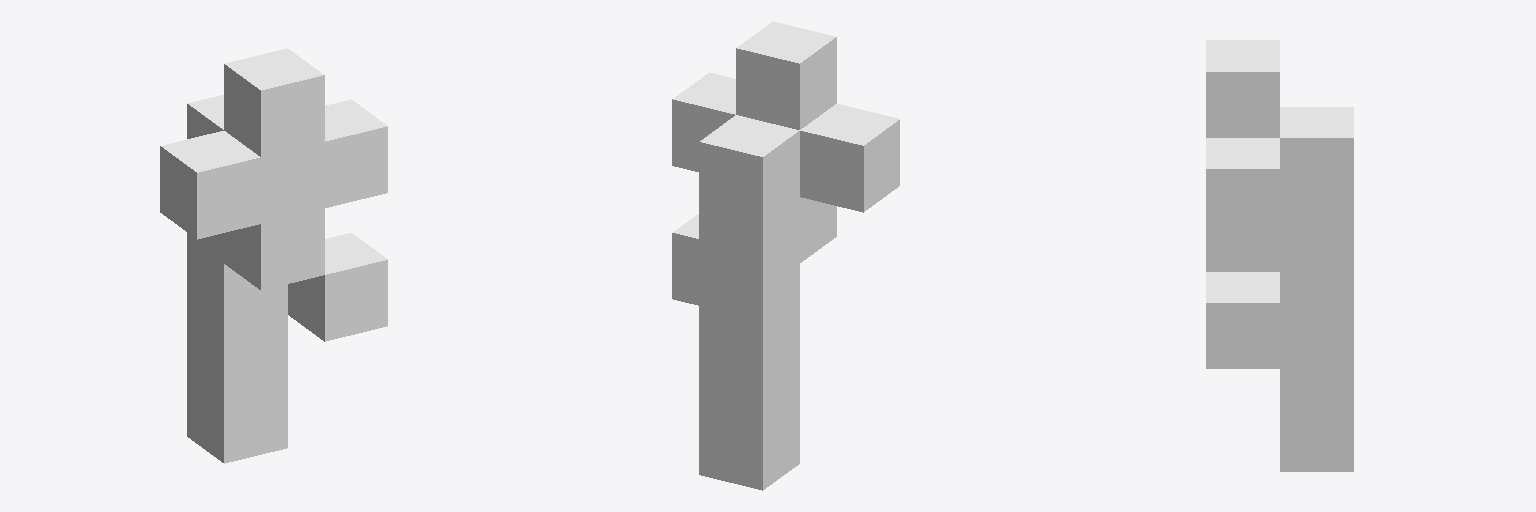
File: Plants-13.obj
3 views of the same model, side by side, from view 1: azimuth 30°, elevation 25°; view 2: azimuth 150°, elevation 25°; view 3: azimuth 270°, elevation 25° (orthographic).
Parts seen in each view (by area): view 1: object 1; view 2: object 1; view 3: object 1.
Boxes of the visible parts, box(x1,y1,x2,y2) form: object 1: box(160, 48, 387, 463); object 1: box(672, 21, 899, 490); object 1: box(1206, 40, 1353, 471).
Bounding box in the file's own units: 0.3 × 0.6 × 0.2.